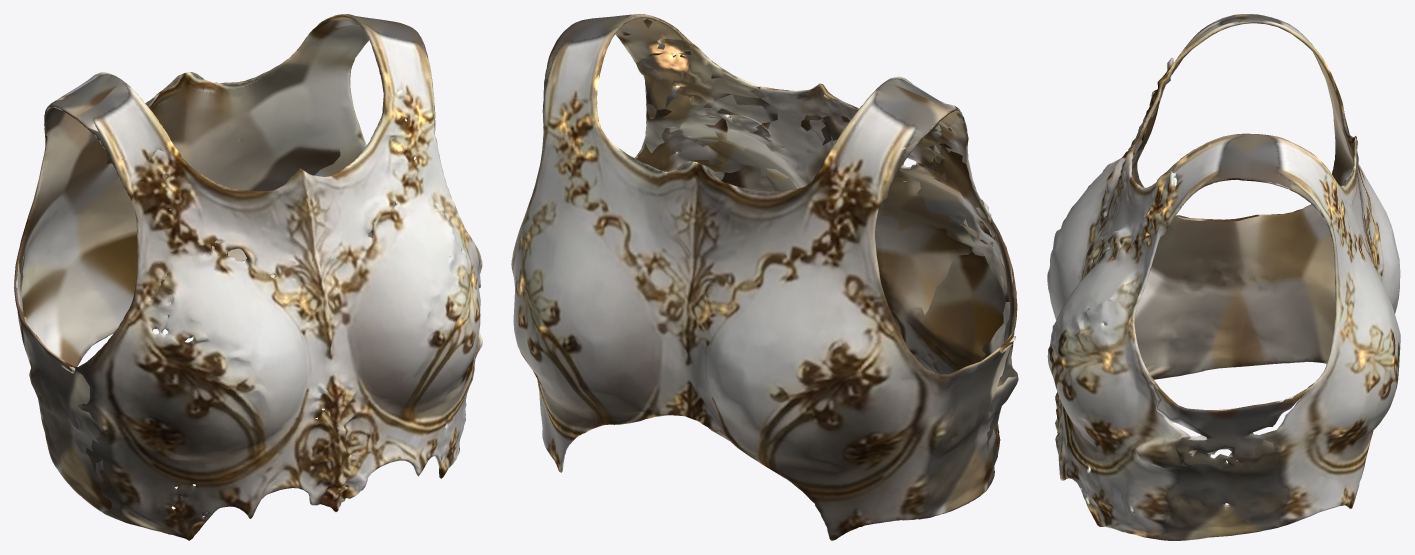
File: lumen_chestplate.glb
3 views of the same model, side by side, from view 1: azimuth 30°, elevation 25°; view 2: azimuth 150°, elevation 25°; view 3: azimuth 270°, elevation 25° (orthographic). The views are drawn at different scales.
Parts seen in each view (by area): view 1: geometry_0; view 2: geometry_0; view 3: geometry_0.
Boxes of the visible parts, box(x1,y1,x2,y2) form: geometry_0: box(14, 14, 482, 540); geometry_0: box(511, 14, 1018, 540); geometry_0: box(1047, 14, 1400, 540).
Size of the model in its own units: 0.4626 by 0.4405 by 0.3599.
1 material, 1 textured.
